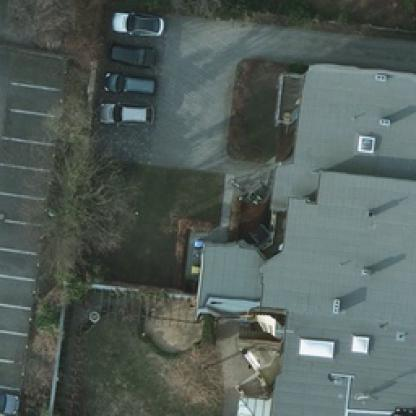car: (101, 68, 153, 96), (107, 8, 164, 33), (98, 101, 150, 128), (107, 40, 156, 66)
